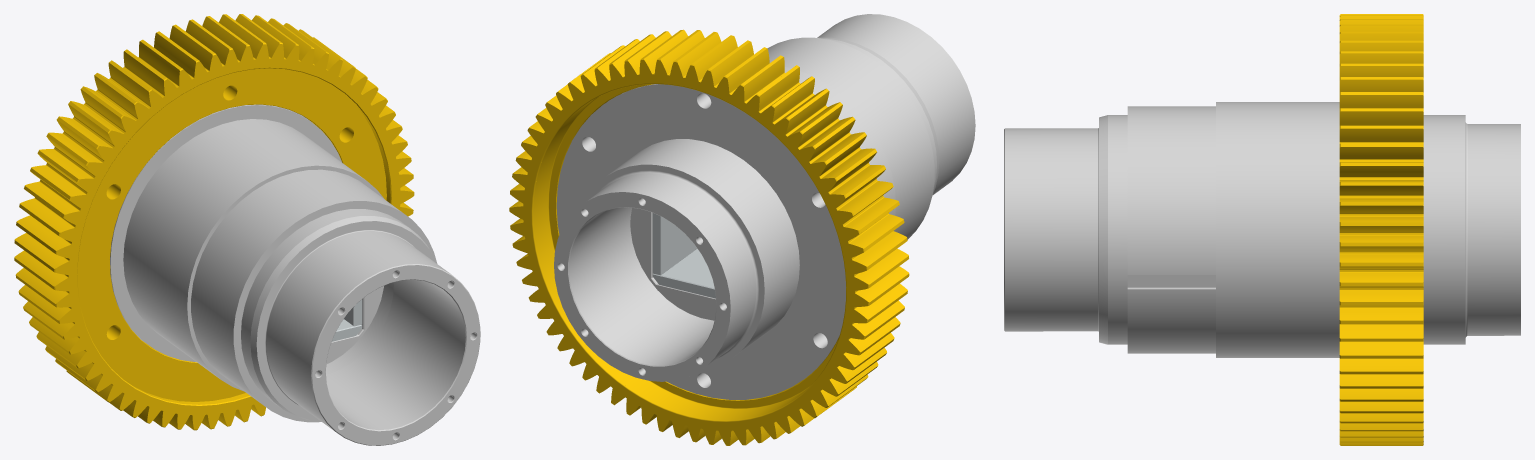
The model's file is Center Hallow Shaft.fbx.
3 renders of one model, left to right at view 1: azimuth 30°, elevation 25°; view 2: azimuth 150°, elevation 25°; view 3: azimuth 270°, elevation 25°, orthographic. The views are drawn at different scales.
Visible parts, largest first — view 1: Mesh_4, Mesh_0.010; view 2: Mesh_4, Mesh_0.010, Mesh_3.001, Mesh_1.001; view 3: Mesh_4, Mesh_0.010.
Part boxes in pixels (x1=…): Mesh_4: x1=110, y1=104, x2=480, y2=445; Mesh_0.010: x1=14, y1=14, x2=414, y2=430; Mesh_4: x1=554, y1=14, x2=975, y2=399; Mesh_0.010: x1=509, y1=29, x2=909, y2=445; Mesh_3.001: x1=652, y1=213, x2=697, y2=275; Mesh_1.001: x1=652, y1=249, x2=715, y2=298; Mesh_4: x1=1004, y1=102, x2=1520, y2=357; Mesh_0.010: x1=1339, y1=14, x2=1423, y2=445.
Bounding box in the file's own units: 97.77 × 97.79 × 117.
